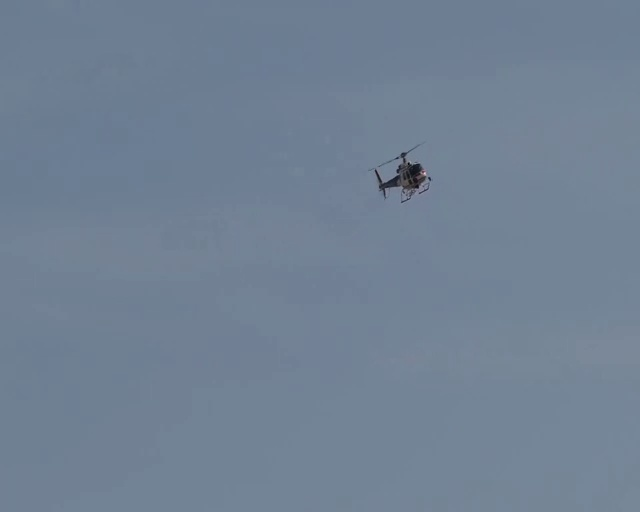HELICOPTER: (367, 139, 432, 203)
